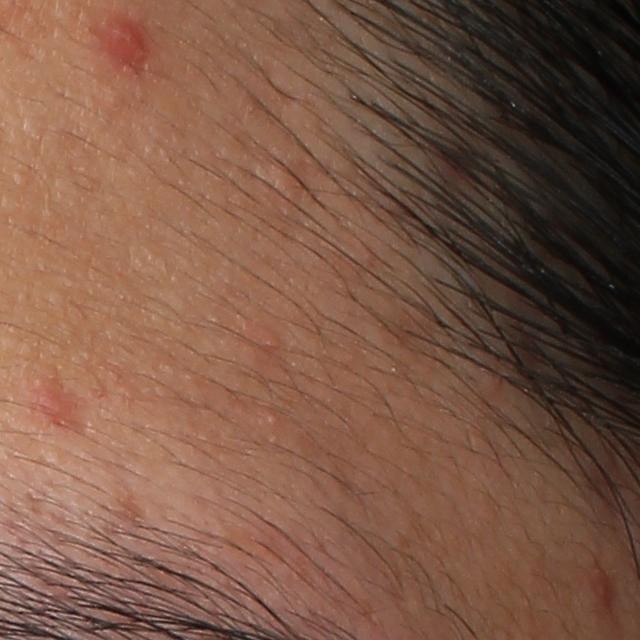comedo: (260, 406, 282, 430)
papule: (104, 11, 149, 61), (586, 563, 620, 606)
